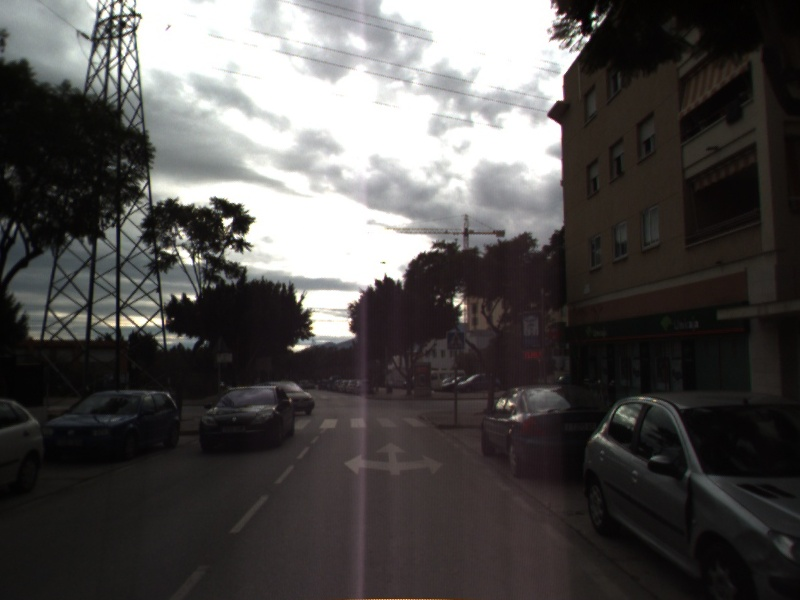STRAIGHT_LEFT_RIGHT: (342, 440, 446, 478)
